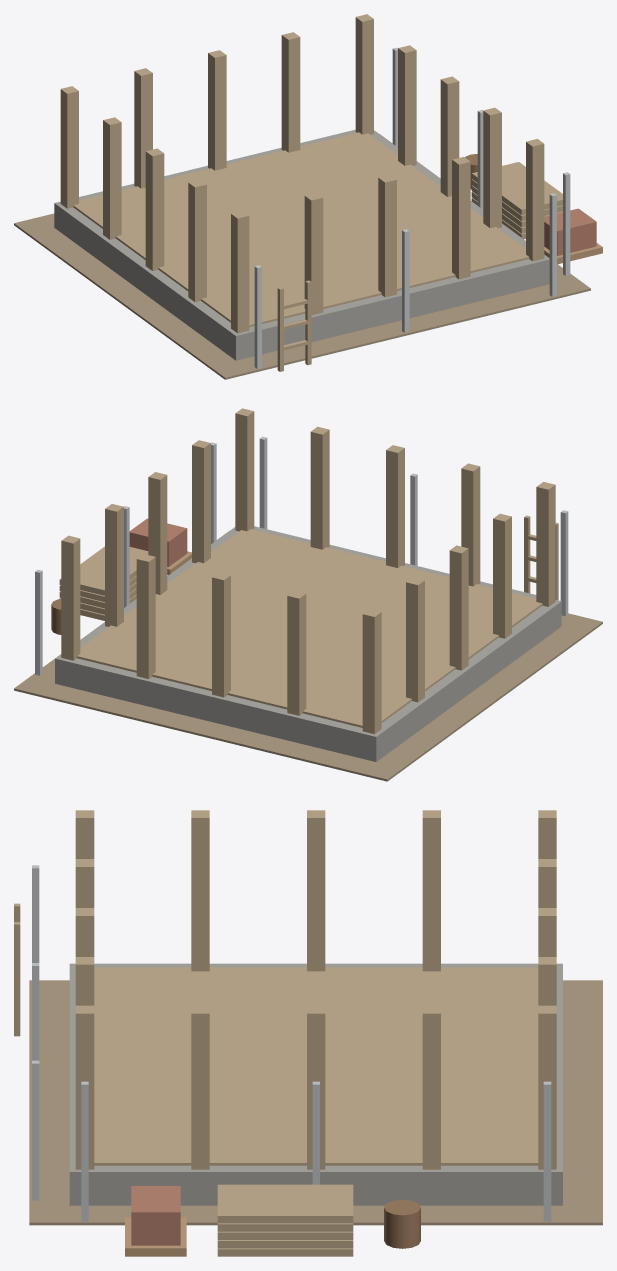
Rendered from goat_pen_site_3.glb.
The picture shows the model from 3 angles, top to bottom: view 1: azimuth 30°, elevation 25°; view 2: azimuth 150°, elevation 25°; view 3: azimuth 270°, elevation 25°; orthographic projection. The views are drawn at different scales.
Visible parts, largest first — view 1: body; view 2: body; view 3: body.
Boxes of the visible parts, bbox=[...] form: body: bbox=[14, 14, 602, 379]; body: bbox=[14, 408, 602, 781]; body: bbox=[14, 810, 602, 1256].
Size of the model in its own units: 2.1 by 0.688 by 1.91.
